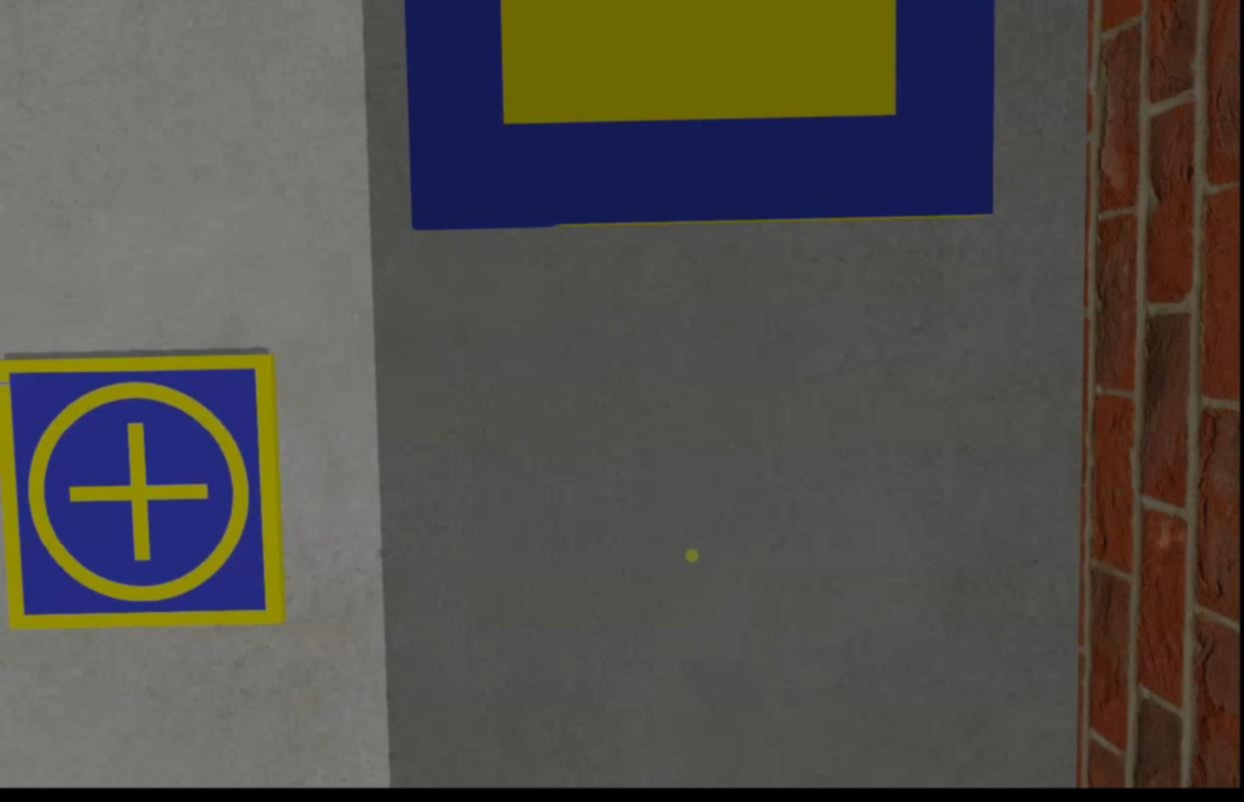large_base: (412, 1, 1003, 231)
small_base: (0, 346, 282, 632)
